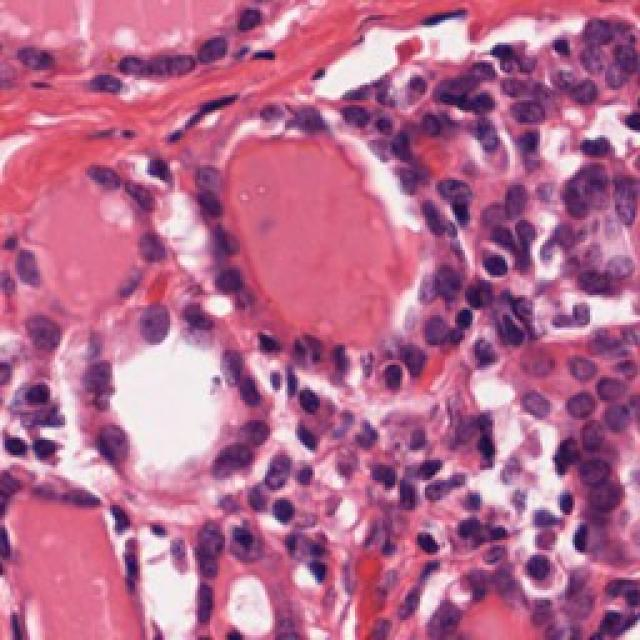abnormal: (208, 503, 285, 582), (0, 360, 80, 428), (488, 70, 565, 137), (408, 158, 488, 222), (84, 408, 148, 487), (490, 166, 548, 242), (555, 147, 617, 215), (143, 40, 213, 97), (0, 298, 65, 358), (400, 305, 480, 353), (178, 162, 245, 218), (412, 255, 476, 312), (506, 372, 562, 435), (185, 512, 240, 576), (120, 295, 183, 350), (200, 254, 260, 309), (117, 222, 167, 285), (0, 227, 40, 298), (512, 337, 568, 387)
